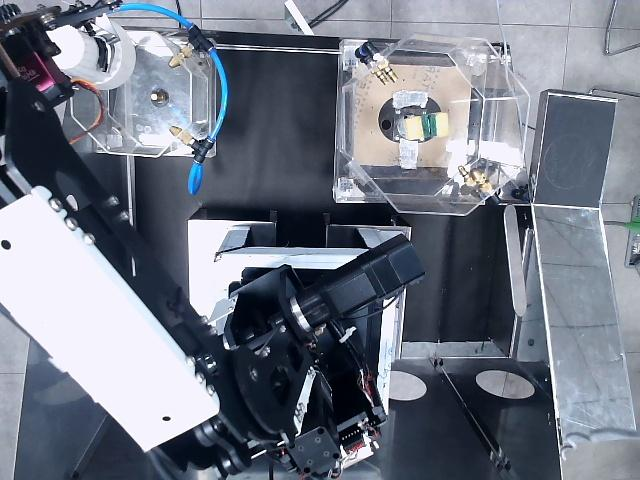cup: (48, 22, 135, 89)
